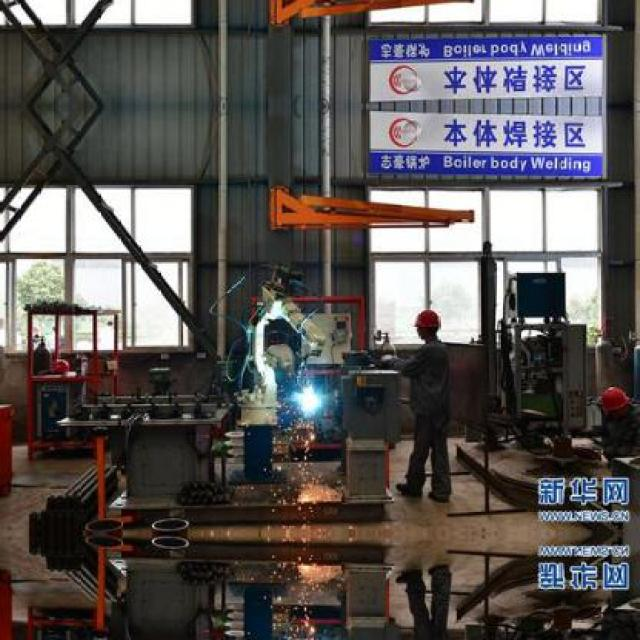helmet: (599, 382, 630, 411), (412, 308, 443, 328)
